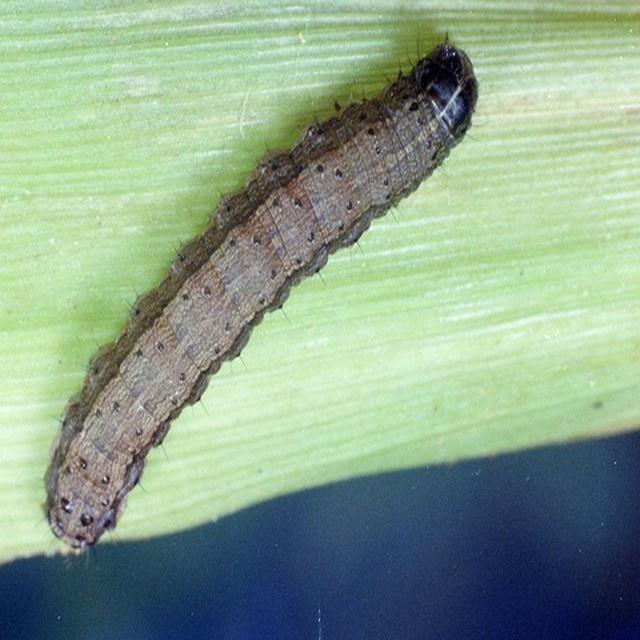yellow-stem-borer-larva: (33, 27, 496, 568)
